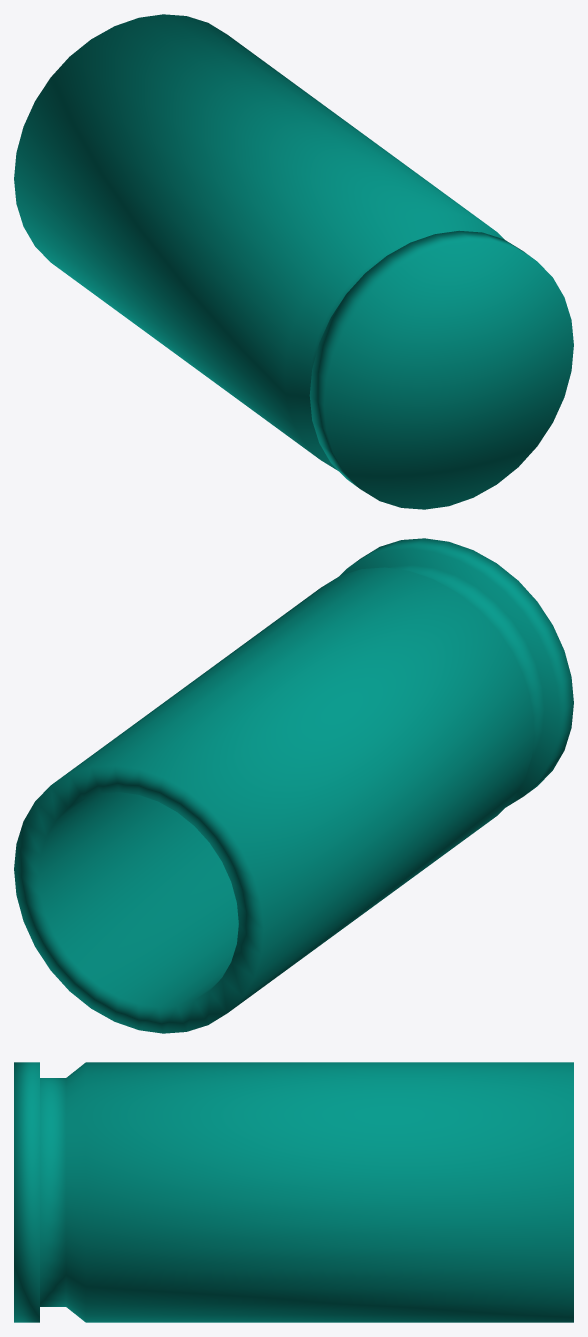
File: Casing 1.fbx
3 renders of one model, top to bottom at view 1: azimuth 30°, elevation 25°; view 2: azimuth 150°, elevation 25°; view 3: azimuth 270°, elevation 25°, orthographic. The views are drawn at different scales.
Parts seen in each view (by area): view 1: Cylinder; view 2: Cylinder; view 3: Cylinder.
Part boxes in pixels (left/top/right/bottom): Cylinder: left=14, top=14, right=573, bottom=509; Cylinder: left=14, top=538, right=573, bottom=1033; Cylinder: left=14, top=1062, right=573, bottom=1322.
Size of the model in its own units: 0.302 by 0.302 by 0.6493.
